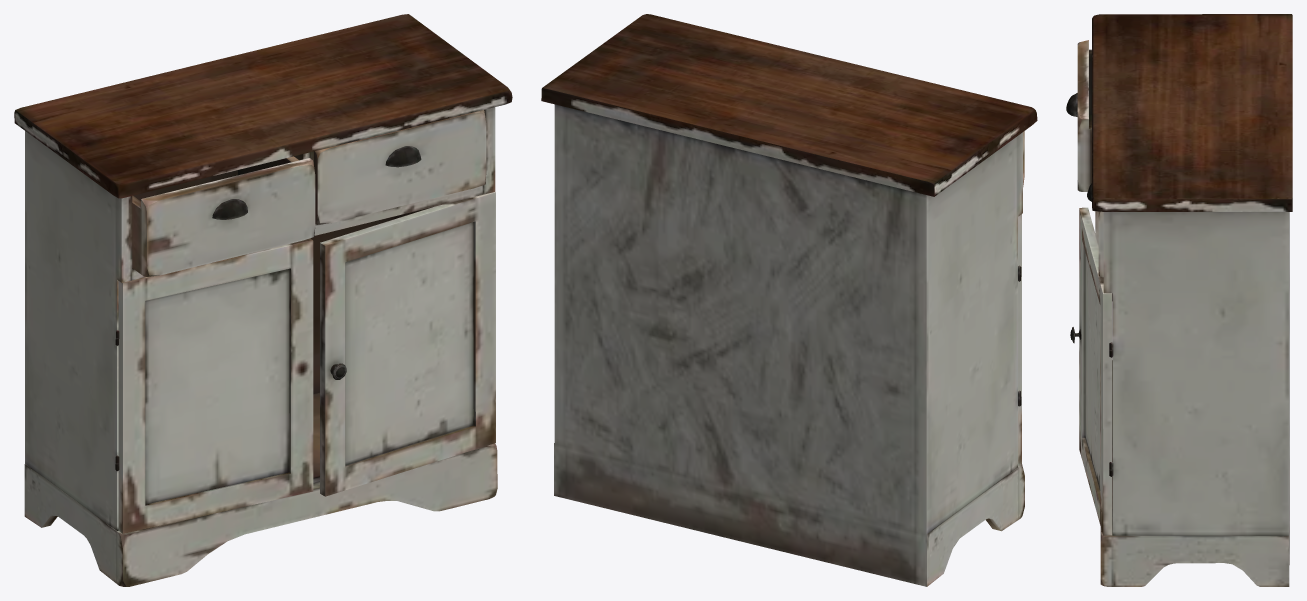
Rendered from painted_wooden_cabinet.d02d797f.glb.
3 renders of one model, left to right at view 1: azimuth 30°, elevation 25°; view 2: azimuth 150°, elevation 25°; view 3: azimuth 270°, elevation 25°, orthographic. The views are drawn at different scales.
Parts seen in each view (by area): view 1: painted_wooden_cabinet, painted_wooden_cabinet_door_01, painted_wooden_cabinet_door_02, painted_wooden_cabinet_drawer_01, painted_wooden_cabinet_drawer_02; view 2: painted_wooden_cabinet, painted_wooden_cabinet_door_01; view 3: painted_wooden_cabinet, painted_wooden_cabinet_door_02, painted_wooden_cabinet_drawer_01, painted_wooden_cabinet_drawer_02.
Boxes of the visible parts, left/top/right/bottom form: painted_wooden_cabinet: left=14, top=14, right=512, bottom=586; painted_wooden_cabinet_door_01: left=118, top=238, right=313, bottom=533; painted_wooden_cabinet_door_02: left=320, top=192, right=495, bottom=496; painted_wooden_cabinet_drawer_01: left=132, top=156, right=315, bottom=276; painted_wooden_cabinet_drawer_02: left=314, top=110, right=486, bottom=224; painted_wooden_cabinet: left=541, top=14, right=1037, bottom=586; painted_wooden_cabinet_door_01: left=1018, top=214, right=1021, bottom=465; painted_wooden_cabinet: left=1092, top=14, right=1292, bottom=586; painted_wooden_cabinet_door_02: left=1070, top=207, right=1111, bottom=535; painted_wooden_cabinet_drawer_01: left=1066, top=40, right=1091, bottom=191; painted_wooden_cabinet_drawer_02: left=1087, top=183, right=1103, bottom=277.
Bounding box in the file's own units: 1.19 × 1.18 × 0.616.
Materials: 1 (1 with a texture image).
